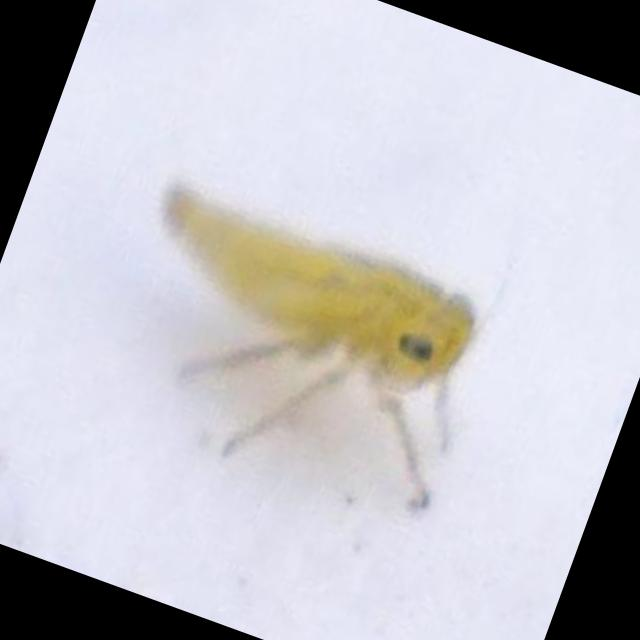green-leafhopper: (97, 169, 514, 516)
